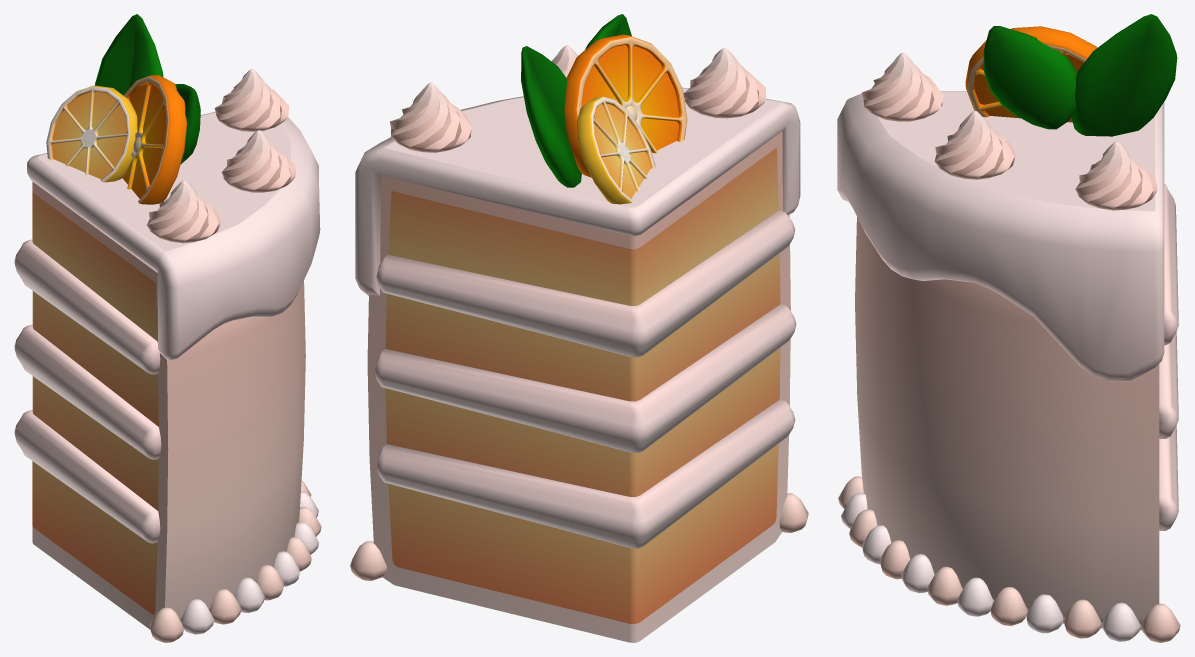
File: Cake_Lemon_Slice_V2_00.fbx
3 views of the same model, side by side, from view 1: azimuth 30°, elevation 25°; view 2: azimuth 150°, elevation 25°; view 3: azimuth 270°, elevation 25° (orthographic). The views are drawn at different scales.
Parts seen in each view (by area): view 1: Cake_Lemon_Slice_V2_00; view 2: Cake_Lemon_Slice_V2_00; view 3: Cake_Lemon_Slice_V2_00.
Boxes of the visible parts, left/top/right/bottom form: Cake_Lemon_Slice_V2_00: left=14, top=14, right=321, bottom=642; Cake_Lemon_Slice_V2_00: left=350, top=14, right=808, bottom=642; Cake_Lemon_Slice_V2_00: left=837, top=14, right=1180, bottom=642.
Bounding box in the file's own units: 34.82 × 62.6 × 35.03.
